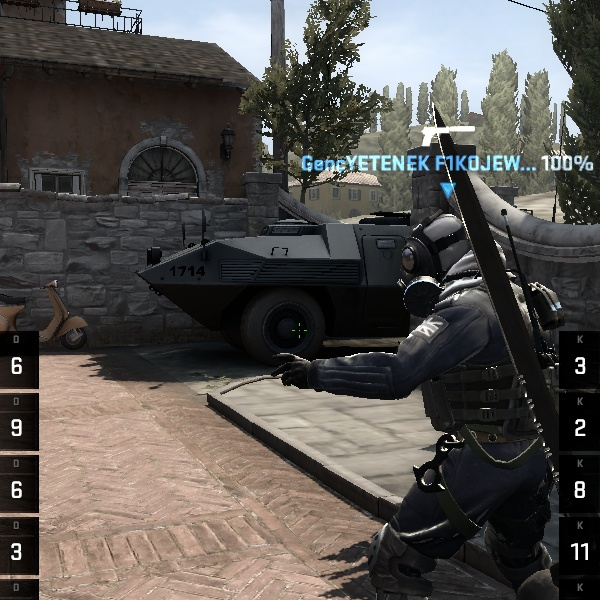ct_body: (348, 195, 568, 585)
